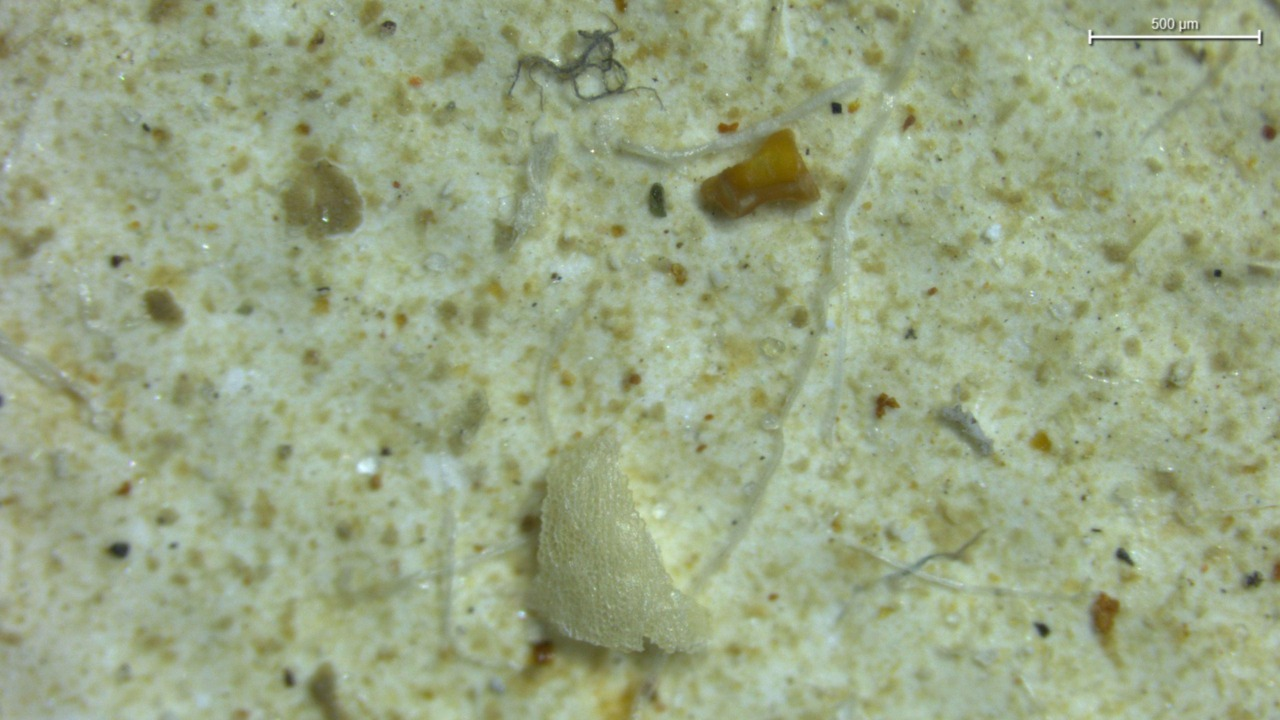microplastic_fragment: (532, 433, 710, 651), (700, 128, 818, 218)
